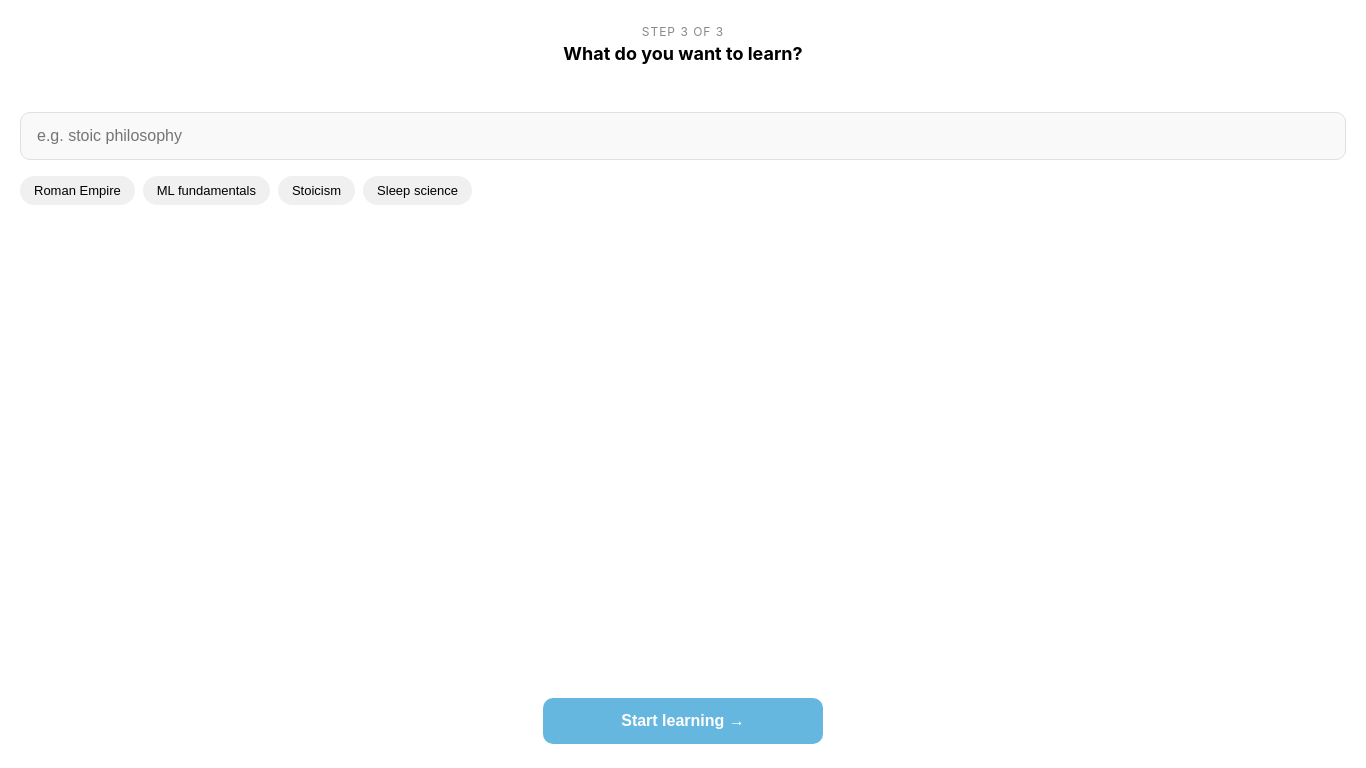
Scenario: ScreenTopic › clicking a chip fills the input
Click the button with test id "suggestion-chip" showing "Roman Empire".
click(77, 190)  # box [20,176,135,205]
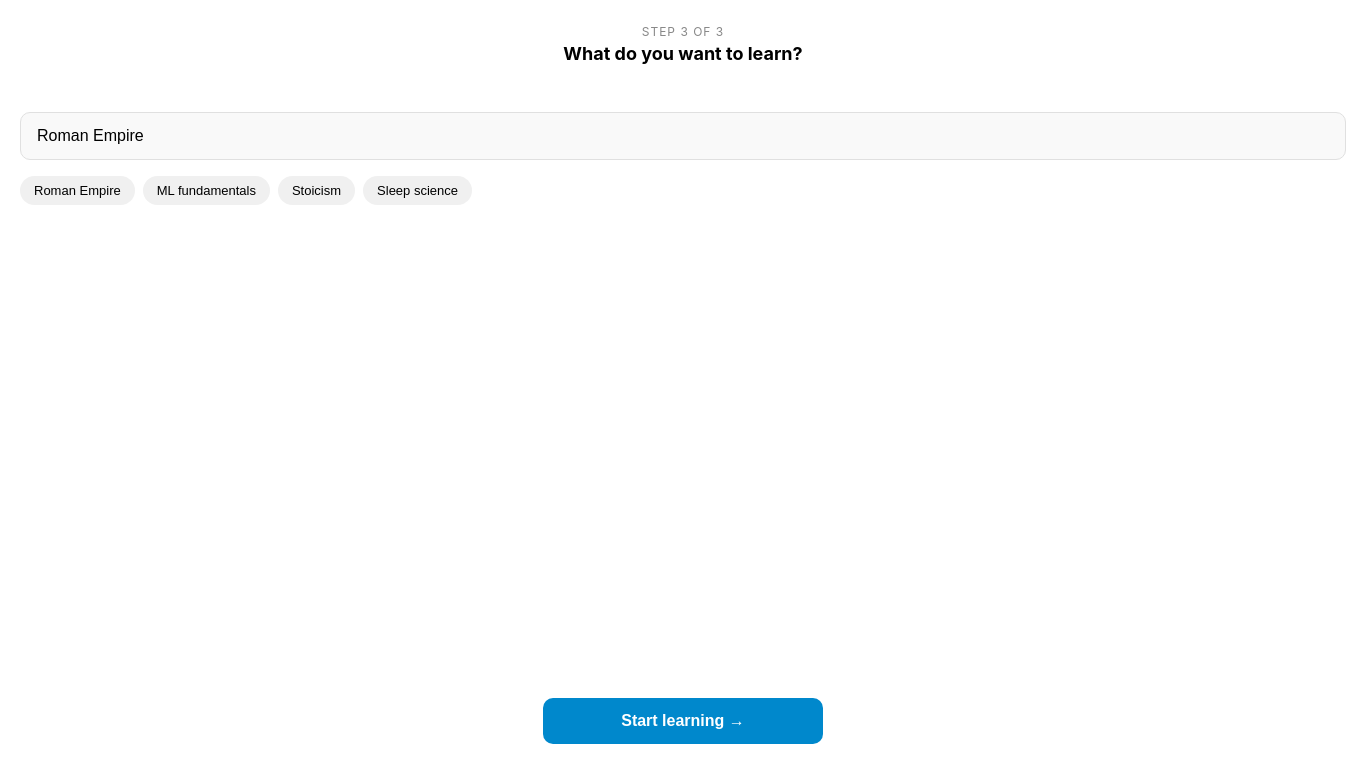
Result: the field with test id "topic-input" is not empty at [20,112,1346,160]
